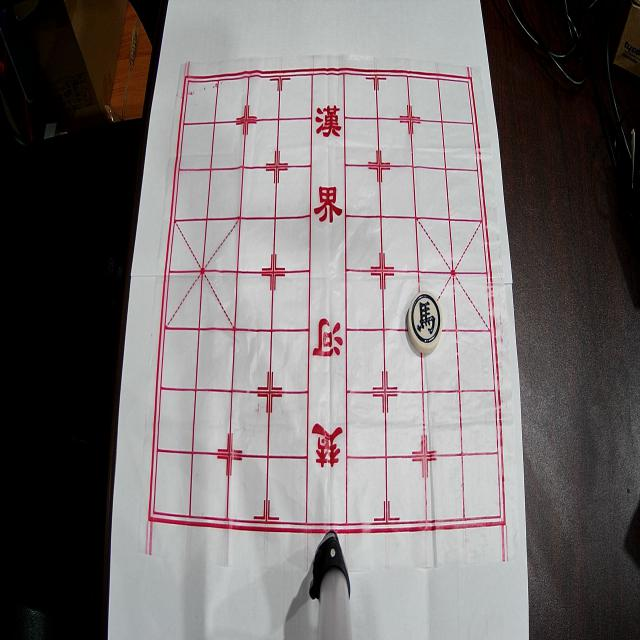black-horse: (407, 291, 443, 354)
